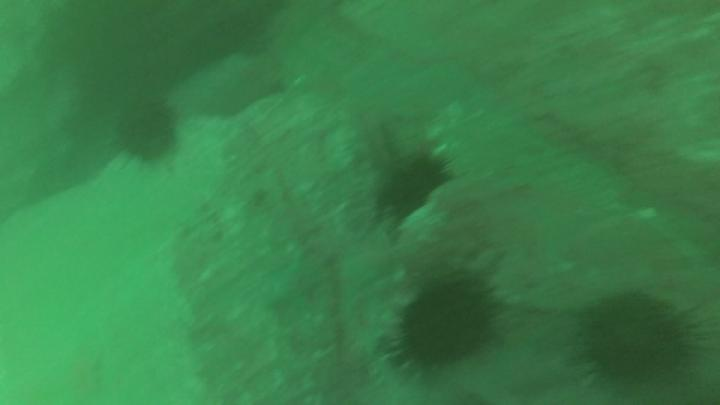echinus: (585, 297, 690, 384), (401, 283, 489, 364), (116, 107, 176, 165), (385, 158, 441, 212)
